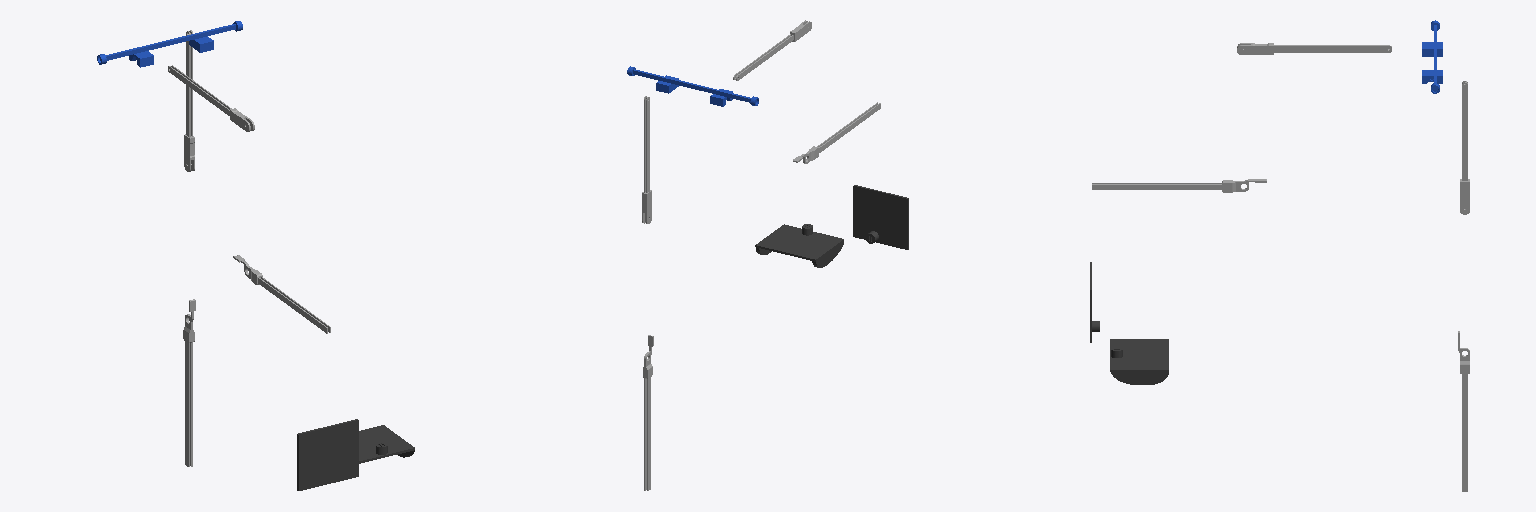
URDF robot description (pady):
<?xml version="1.0"?>
<!--
  PaDy - Passive Dynamic Bipedal Walker
  ======================================
  Author: Jadyn (University of Liverpool)
  
  DESIGN PARAMETERS:
  - Total height:   ~1.017m
  - Leg length:     1.000m (thigh 0.500m + shin 0.500m)
  - Hip width:      0.21572m (center to center)
  - Total mass:     3.524 kg
  - Target slope:   3 degrees (0.0524 rad)
  
  MASS DISTRIBUTION (Morales-Cruz 2014 optimisation):
  - Shin COM:  93.6% from ankle (proximal, near knee)
  - Thigh COM:  9.5% from hip   (proximal, near hip)
  - Knee-centered mass = key for stable passive gait
  
  COORDINATE SYSTEM:
  - Origin: center of hip joint level
  - +X = forward (walking direction)
  - +Y = left
  - +Z = up
  
  JOINT HIERARCHY:
  base_link (hip) [free-floating root - Gazebo treats root as 6 DOF]
      ├─ thigh_right [hip_joint_right - revolute]
      │   └─ shin_right [knee_joint_right - revolute]
      │       └─ foot_right [foot_joint_right - fixed]
      └─ thigh_left [hip_joint_left - revolute]
          └─ shin_left [knee_joint_left - revolute]
              └─ foot_left [foot_joint_left - fixed]
-->

<robot name="pady">

  <!-- ============================================================
       NOTE: No world link or floating joint.
       In Gazebo Harmonic the URDF root link is automatically free-floating
       (6 DOF). Spawn position is set by the launch file arguments.
       A world link + floating joint causes PoseRelativeToGraph errors
       when Gazebo converts URDF → SDF internally.
       ============================================================ -->

  <!-- ============================================================
       BASE LINK (HIP / TORSO)
       Mass: 1.600 kg  (45.7% of total - heaviest part)
       COM:  15mm below hip joint center
       Role: Provides stability, connects both legs
       ============================================================ -->

  <link name="base_link">
    <visual>
      <origin xyz="0 0 0" rpy="0 0 0"/>
      <geometry>
        <!-- scale converts Fusion mm → meters -->
        <mesh filename="package://pady_robot/meshes/visual/base_link.stl"
              scale="0.001 0.001 0.001"/>
      </geometry>
      <material name="blue">
        <color rgba="0.2 0.4 0.8 1.0"/>
      </material>
    </visual>
    <collision>
      <origin xyz="0 0 0" rpy="0 0 0"/>
      <geometry>
        <!-- No separate collision mesh: reuse visual mesh (meshes/collision/ does not exist) -->
        <mesh filename="package://pady_robot/meshes/visual/base_link.stl"
              scale="0.001 0.001 0.001"/>
      </geometry>
    </collision>
    <inertial>
      <mass value="1.600"/>
      <!-- COM: centered laterally, 15mm below hip joint -->
      <origin xyz="0 0 -0.015" rpy="0 0 0"/>
      <!-- Box approximation: 220mm wide x 120mm deep x 40mm tall -->
      <inertia ixx="0.002133" ixy="0.0" ixz="0.0"
               iyy="0.006667" iyz="0.0"
               izz="0.008373"/>
    </inertial>
  </link>


  <!-- ============================================================
       RIGHT THIGH
       Mass: 0.437 kg
       COM:  47.5mm from hip (9.5% of 500mm - near top)
             This TOP-HEAVY distribution is critical for gait!
       Length: 500mm (hip joint to knee joint)
       ============================================================ -->

  <link name="thigh_right">
    <visual>
      <origin xyz="0 0 0" rpy="0 0 0"/>
      <geometry>
        <mesh filename="package://pady_robot/meshes/visual/thigh_right.stl"
              scale="0.001 0.001 0.001"/>
      </geometry>
      <material name="grey">
        <color rgba="0.7 0.7 0.7 1.0"/>
      </material>
    </visual>
    <collision>
      <origin xyz="0 0 0" rpy="0 0 0"/>
      <geometry>
        <mesh filename="package://pady_robot/meshes/visual/thigh_right.stl"
              scale="0.001 0.001 0.001"/>
      </geometry>
    </collision>
    <inertial>
      <mass value="0.437"/>
      <!-- COM: 47.5mm from hip (top), centered on leg axis -->
      <origin xyz="0 0 -0.0475" rpy="0 0 0"/>
      <!-- Inertia about COM. For cylindrical segment along Z: ixx=iyy=(1/12)*m*(3r²+L²).
           Previous iyy=0.027024 was computed about the geometric midpoint, not the COM
           (off by m*(0.2025)²=0.017862). Corrected to match ixx. -->
      <inertia ixx="0.009162" ixy="0.0" ixz="0.0"
               iyy="0.009162" iyz="0.0"
               izz="0.000058"/>
    </inertial>
  </link>

  <!-- Hip Joint RIGHT
       Location: 107.86mm right of center, 17mm below top of hip
       Type: Revolute (1 DOF sagittal plane swing)
       Limits: -30deg to +30deg (passive walker range)
       Damping: 0.001 Nm.s/rad (near frictionless - essential for passive walking!) -->
  <joint name="hip_joint_right" type="revolute">
    <parent link="base_link"/>
    <child link="thigh_right"/>
    <!-- 107.86mm to right (-Y), 17mm below hip top (-Z) -->
    <origin xyz="0 -0.10786 -0.017" rpy="0 0 0"/>
    <!-- Rotation about Y axis = leg swings forward/backward -->
    <axis xyz="0 1 0"/>
    <limit effort="0" lower="-0.5236" upper="0.5236" velocity="10.0"/>
    <!-- effort=0 means NO motor, pure passive! -->
    <dynamics damping="0.001" friction="0.001"/>
  </joint>


  <!-- ============================================================
       RIGHT SHIN
       Mass: 0.350 kg
       COM:  32mm from knee (93.6% from ankle = near top)
             This TOP-HEAVY shin distribution is the key insight
             from Collins 2001 for stable passive gait!
       Length: 500mm (knee joint to foot bottom)
       ============================================================ -->

  <link name="shin_right">
    <visual>
      <origin xyz="0 0 0" rpy="0 0 0"/>
      <geometry>
        <mesh filename="package://pady_robot/meshes/visual/shin_right.stl"
              scale="0.001 0.001 0.001"/>
      </geometry>
      <material name="grey"/>
    </visual>
    <collision>
      <origin xyz="0 0 0" rpy="0 0 0"/>
      <geometry>
        <mesh filename="package://pady_robot/meshes/visual/shin_right.stl"
              scale="0.001 0.001 0.001"/>
      </geometry>
    </collision>
    <inertial>
      <mass value="0.350"/>
      <!-- COM: 32mm from knee (top), 468mm from ankle (93.6% up) -->
      <origin xyz="0 0 -0.032" rpy="0 0 0"/>
      <!-- Inertia about COM. Previous iyy=0.023925 was computed about the geometric
           midpoint (off by m*(0.218)²=0.016633). Corrected to match ixx. -->
      <inertia ixx="0.007338" ixy="0.0" ixz="0.0"
               iyy="0.007338" iyz="0.0"
               izz="0.000047"/>
    </inertial>
  </link>

  <!-- Knee Joint RIGHT
       Location: 500mm below hip joint (bottom of thigh)
       Type: Revolute - knee can only FLEX (not hyperextend)
       Limits: 0deg (straight) to 65deg (flexed)
       Note: In passive walker, knee locks during stance,
             flexes during swing phase under gravity -->
  <joint name="knee_joint_right" type="revolute">
    <parent link="thigh_right"/>
    <child link="shin_right"/>
    <!-- Directly below hip joint, 500mm down -->
    <origin xyz="0 0 -0.500" rpy="0 0 0"/>
    <axis xyz="0 1 0"/>
    <!-- lower=0 prevents hyperextension, upper=65deg allows flex -->
    <limit effort="0" lower="0.0" upper="1.1345" velocity="10.0"/>
    <dynamics damping="0.001" friction="0.001"/>
  </joint>


  <!-- ============================================================
       RIGHT FOOT
       Mass: 0.175 kg
       COM:  40mm forward of ankle (foot extends forward)
       Role: Ground contact, curved heel for rolling
       Note: No ankle joint - foot rigidly attached to shin
             Rail guides will be added later for lateral stability
       ============================================================ -->

  <link name="foot_right">
    <visual>
      <origin xyz="0 0 0" rpy="0 0 0"/>
      <geometry>
        <mesh filename="package://pady_robot/meshes/visual/right_foot.stl"
              scale="0.001 0.001 0.001"/>
      </geometry>
      <material name="dark_grey">
        <color rgba="0.3 0.3 0.3 1.0"/>
      </material>
    </visual>
    <collision>
      <origin xyz="0 0 0" rpy="0 0 0"/>
      <geometry>
        <mesh filename="package://pady_robot/meshes/visual/right_foot.stl"
              scale="0.001 0.001 0.001"/>
      </geometry>
    </collision>
    <inertial>
      <mass value="0.175"/>
      <!-- COM: 40mm forward (foot extends in front of shin) -->
      <origin xyz="0.040 0 -0.015" rpy="0 0 0"/>
      <inertia ixx="0.000118" ixy="0.0" ixz="0.0"
               iyy="0.000299" iyz="0.0"
               izz="0.000391"/>
    </inertial>
  </link>

  <!-- Foot Joint RIGHT
       Fixed joint - no ankle rotation
       Foot rigidly attached at bottom of shin (500mm down)
       Offset 20mm forward (foot extends forward of shin centerline) -->
  <joint name="foot_joint_right" type="fixed">
    <parent link="shin_right"/>
    <child link="foot_right"/>
    <!-- 500mm below knee, 20mm forward -->
    <origin xyz="0.020 0 -0.500" rpy="0 0 0"/>
  </joint>


  <!-- ============================================================
       LEFT THIGH (mirror of right thigh)
       Mass: 0.437 kg (identical to right)
       COM:  47.5mm from hip - same distribution
       ============================================================ -->

  <link name="thigh_left">
    <visual>
      <origin xyz="0 0 0" rpy="0 0 0"/>
      <geometry>
        <mesh filename="package://pady_robot/meshes/visual/thigh_left.stl"
              scale="0.001 0.001 0.001"/>
      </geometry>
      <material name="grey"/>
    </visual>
    <collision>
      <origin xyz="0 0 0" rpy="0 0 0"/>
      <geometry>
        <mesh filename="package://pady_robot/meshes/visual/thigh_left.stl"
              scale="0.001 0.001 0.001"/>
      </geometry>
    </collision>
    <inertial>
      <mass value="0.437"/>
      <origin xyz="0 0 -0.0475" rpy="0 0 0"/>
      <inertia ixx="0.009162" ixy="0.0" ixz="0.0"
               iyy="0.009162" iyz="0.0"
               izz="0.000058"/>
    </inertial>
  </link>

  <!-- Hip Joint LEFT
       Mirror of right: +Y instead of -Y (left side) -->
  <joint name="hip_joint_left" type="revolute">
    <parent link="base_link"/>
    <child link="thigh_left"/>
    <!-- 107.86mm to LEFT (+Y), 17mm below hip top (-Z) -->
    <origin xyz="0 0.10786 -0.017" rpy="0 0 0"/>
    <axis xyz="0 1 0"/>
    <limit effort="0" lower="-0.5236" upper="0.5236" velocity="10.0"/>
    <dynamics damping="0.001" friction="0.001"/>
  </joint>


  <!-- ============================================================
       LEFT SHIN (mirror of right shin)
       Mass: 0.350 kg
       COM:  32mm from knee (93.6% from ankle)
       ============================================================ -->

  <link name="shin_left">
    <visual>
      <origin xyz="0 0 0" rpy="0 0 0"/>
      <geometry>
        <mesh filename="package://pady_robot/meshes/visual/shin_left.stl"
              scale="0.001 0.001 0.001"/>
      </geometry>
      <material name="grey"/>
    </visual>
    <collision>
      <origin xyz="0 0 0" rpy="0 0 0"/>
      <geometry>
        <mesh filename="package://pady_robot/meshes/visual/shin_left.stl"
              scale="0.001 0.001 0.001"/>
      </geometry>
    </collision>
    <inertial>
      <mass value="0.350"/>
      <origin xyz="0 0 -0.032" rpy="0 0 0"/>
      <inertia ixx="0.007338" ixy="0.0" ixz="0.0"
               iyy="0.007338" iyz="0.0"
               izz="0.000047"/>
    </inertial>
  </link>

  <!-- Knee Joint LEFT -->
  <joint name="knee_joint_left" type="revolute">
    <parent link="thigh_left"/>
    <child link="shin_left"/>
    <origin xyz="0 0 -0.500" rpy="0 0 0"/>
    <axis xyz="0 1 0"/>
    <limit effort="0" lower="0.0" upper="1.1345" velocity="10.0"/>
    <dynamics damping="0.001" friction="0.001"/>
  </joint>


  <!-- ============================================================
       LEFT FOOT (mirror of right foot)
       Mass: 0.175 kg
       ============================================================ -->

  <link name="foot_left">
    <visual>
      <origin xyz="0 0 0" rpy="0 0 0"/>
      <geometry>
        <mesh filename="package://pady_robot/meshes/visual/left_foot.stl"
              scale="0.001 0.001 0.001"/>
      </geometry>
      <material name="dark_grey"/>
    </visual>
    <collision>
      <origin xyz="0 0 0" rpy="0 0 0"/>
      <geometry>
        <mesh filename="package://pady_robot/meshes/visual/left_foot.stl"
              scale="0.001 0.001 0.001"/>
      </geometry>
    </collision>
    <inertial>
      <mass value="0.175"/>
      <origin xyz="0.040 0 -0.015" rpy="0 0 0"/>
      <inertia ixx="0.000118" ixy="0.0" ixz="0.0"
               iyy="0.000299" iyz="0.0"
               izz="0.000391"/>
    </inertial>
  </link>

  <!-- Foot Joint LEFT -->
  <joint name="foot_joint_left" type="fixed">
    <parent link="shin_left"/>
    <child link="foot_left"/>
    <origin xyz="0.020 0 -0.500" rpy="0 0 0"/>
  </joint>


  <!-- ============================================================
       GAZEBO SIMULATION PROPERTIES
       These tags are read by Gazebo only (ignored by RViz)
       ============================================================ -->

  <!-- Foot contact physics - HIGH friction so feet don't slip -->
  <gazebo reference="foot_right">
    <!-- Coefficient of friction (0.8 = rubber on concrete) -->
    <mu1>0.8</mu1>
    <mu2>0.8</mu2>
    <!-- Contact stiffness (high = hard floor, not squishy) -->
    <kp>1000000.0</kp>
    <!-- Contact damping (absorbs impact energy) -->
    <kd>100.0</kd>
    <material>Gazebo/DarkGrey</material>
  </gazebo>

  <gazebo reference="foot_left">
    <mu1>0.8</mu1>
    <mu2>0.8</mu2>
    <kp>1000000.0</kp>
    <kd>100.0</kd>
    <material>Gazebo/DarkGrey</material>
  </gazebo>

  <!-- Publish joint states from Gazebo so ros_gz_bridge can bridge them to ROS -->
  <gazebo>
    <plugin filename="gz-sim-joint-state-publisher-system"
            name="gz::sim::systems::JointStatePublisher"/>
  </gazebo>

  <!-- Leg materials (visual only in Gazebo) -->
  <gazebo reference="base_link">
    <material>Gazebo/Blue</material>
  </gazebo>

  <gazebo reference="thigh_right">
    <material>Gazebo/Grey</material>
  </gazebo>

  <gazebo reference="shin_right">
    <material>Gazebo/Grey</material>
  </gazebo>

  <gazebo reference="thigh_left">
    <material>Gazebo/Grey</material>
  </gazebo>

  <gazebo reference="shin_left">
    <material>Gazebo/Grey</material>
  </gazebo>

</robot>

--- Render facts (derived) ---
The picture shows the robot from 3 angles, left to right: view 1: azimuth 30°, elevation 25°; view 2: azimuth 150°, elevation 25°; view 3: azimuth 270°, elevation 25°; orthographic projection.
Robot: pady — 7 links, 6 joints (4 revolute, 2 fixed); root link base_link; default pose: all joints at 0.
Visible links, largest first — view 1: foot_right, base_link, foot_left, shin_left, thigh_left, shin_right, thigh_right; view 2: foot_right, foot_left, base_link, shin_left, thigh_left, shin_right, thigh_right; view 3: foot_left, thigh_right, shin_right, shin_left, thigh_left, base_link.
Link boxes in pixels (<box>): foot_right: <box>297,419,358,490</box>; base_link: <box>97,21,242,67</box>; foot_left: <box>359,425,414,463</box>; shin_left: <box>183,299,195,466</box>; thigh_left: <box>184,30,194,171</box>; shin_right: <box>233,255,330,333</box>; thigh_right: <box>168,65,254,131</box>; foot_right: <box>853,185,908,249</box>; foot_left: <box>755,224,843,267</box>; base_link: <box>627,66,758,106</box>; shin_left: <box>643,335,653,490</box>; thigh_left: <box>642,96,651,223</box>; shin_right: <box>793,102,880,163</box>; thigh_right: <box>733,20,811,80</box>; foot_left: <box>1110,339,1168,384</box>; thigh_right: <box>1237,43,1391,54</box>; shin_right: <box>1092,179,1266,192</box>; shin_left: <box>1458,331,1469,491</box>; thigh_left: <box>1460,81,1469,214</box>; base_link: <box>1422,20,1442,93</box>.
Bounding box of the posed robot: 0.513 × 1.25 × 1.53 m (x, y, z).
7 mesh visuals loaded from 7 distinct referenced files (7 binary STL).
